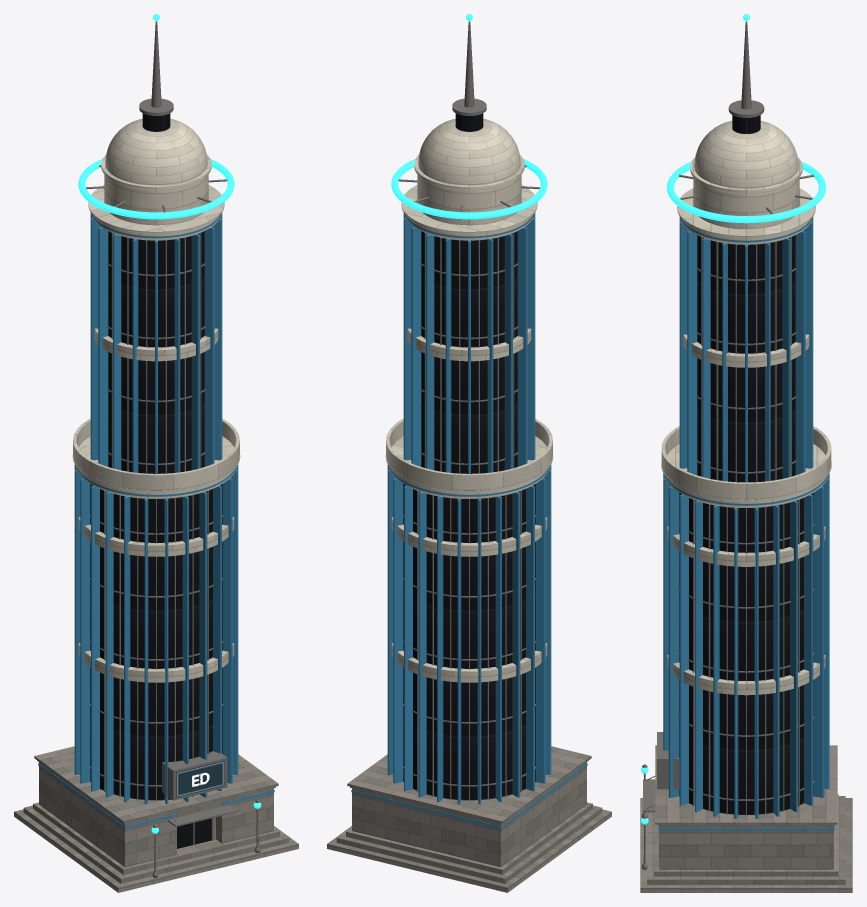
Rendered from education-dao.glb.
3 renders of one model, left to right at view 1: azimuth 30°, elevation 25°; view 2: azimuth 150°, elevation 25°; view 3: azimuth 270°, elevation 25°, orthographic.
Visible parts, largest first — view 1: Landmark · Education DAO; view 2: Landmark · Education DAO; view 3: Landmark · Education DAO.
Boxes of the visible parts, x1=… form: Landmark · Education DAO: x1=14, y1=14, x2=298, y2=892; Landmark · Education DAO: x1=327, y1=14, x2=611, y2=892; Landmark · Education DAO: x1=640, y1=14, x2=852, y2=892.
Bounding box in the file's own units: 12 × 52 × 12.
Materials: 7 (4 with a texture image).
